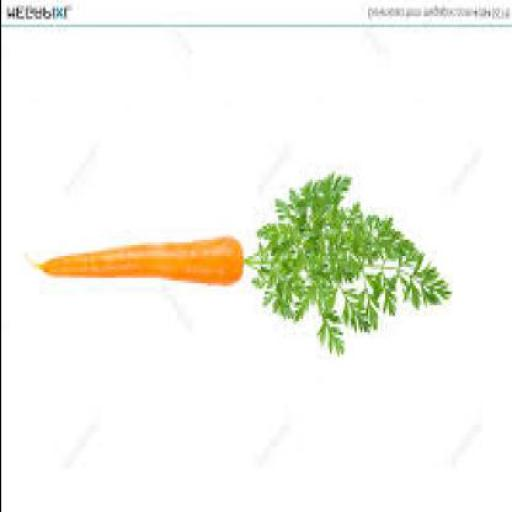biodegradable: (245, 178, 453, 360), (36, 239, 244, 291)
